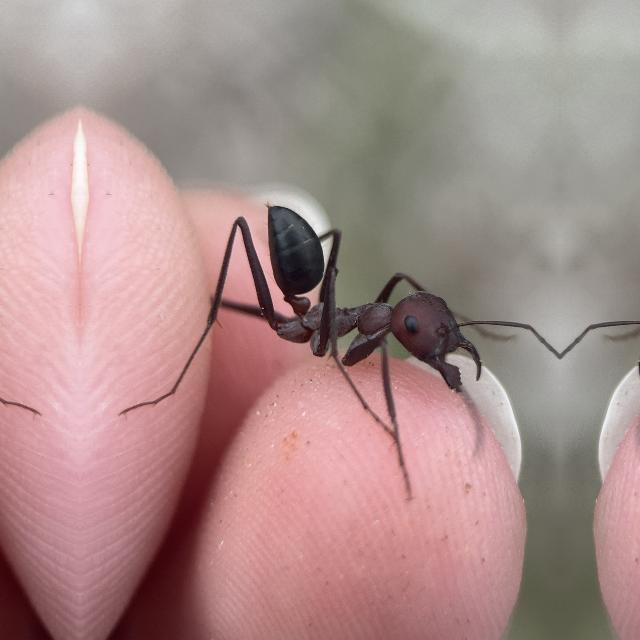Cataglyphis: (224, 180, 503, 426)
